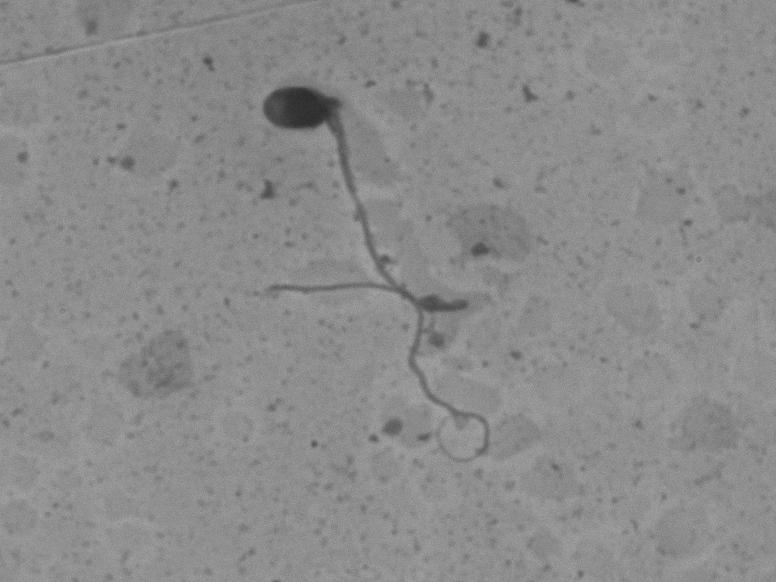Abnormal: (234, 71, 519, 490)
